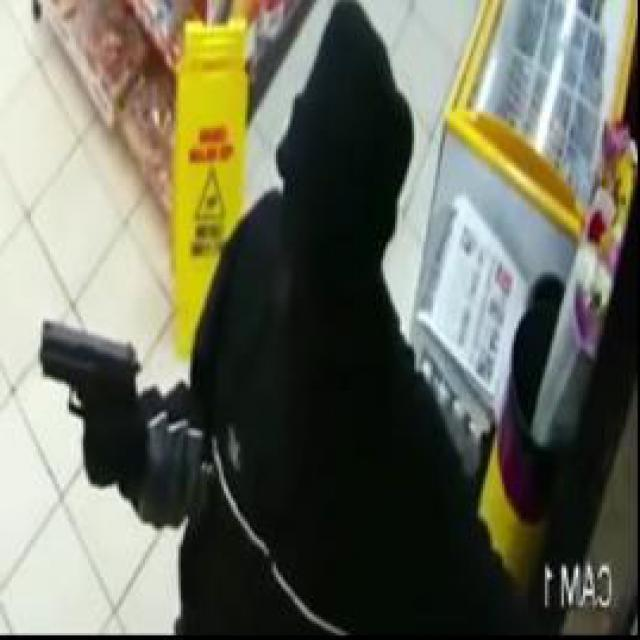Gun: (39, 314, 142, 484)
